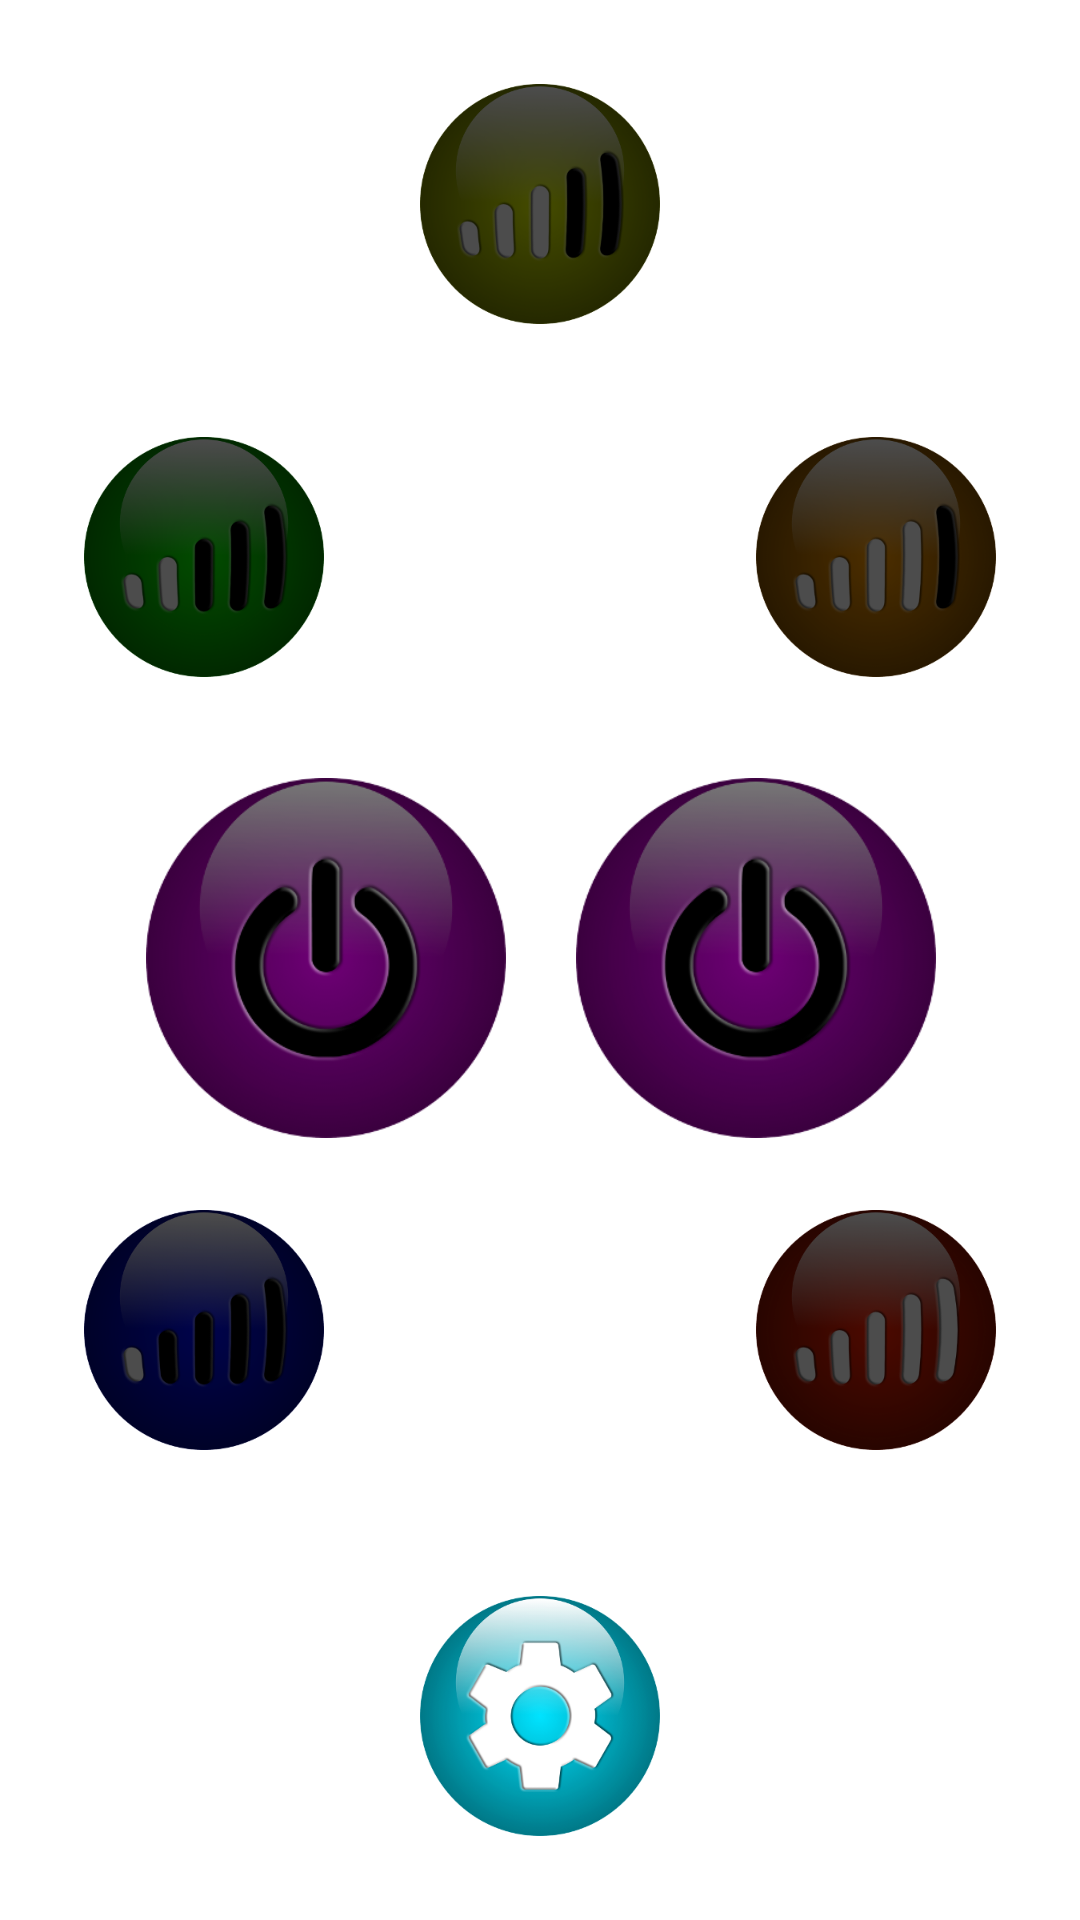

Where to tap for icons on this 1080w x 1920h app screen, as (x=x, y=y):
poweroff: (x=326, y=958), (x=756, y=958)
